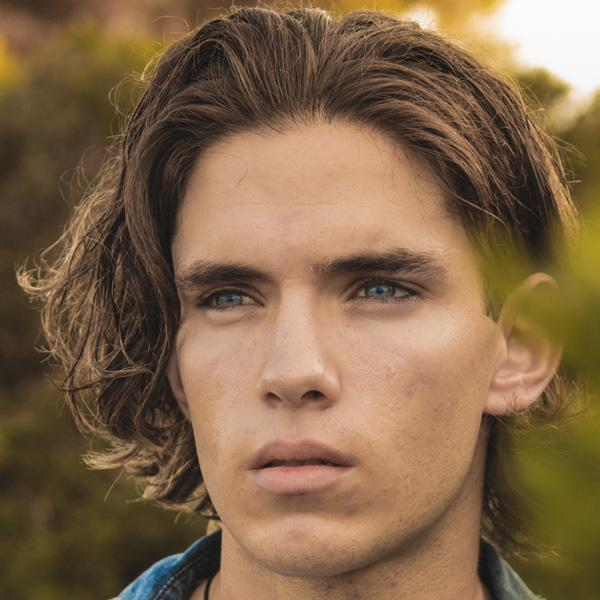Eyes: (334, 268, 435, 314), (189, 275, 272, 322)
